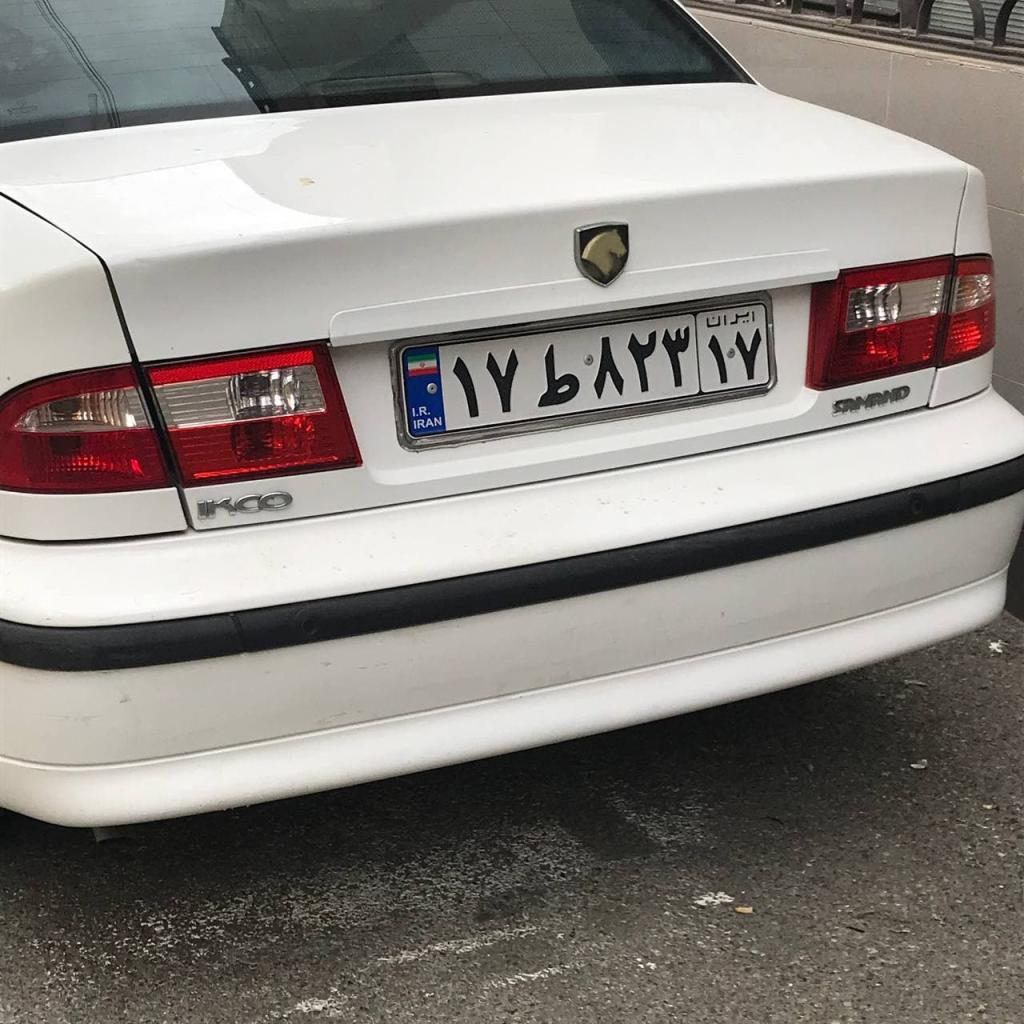Plates: (399, 302, 770, 436)
